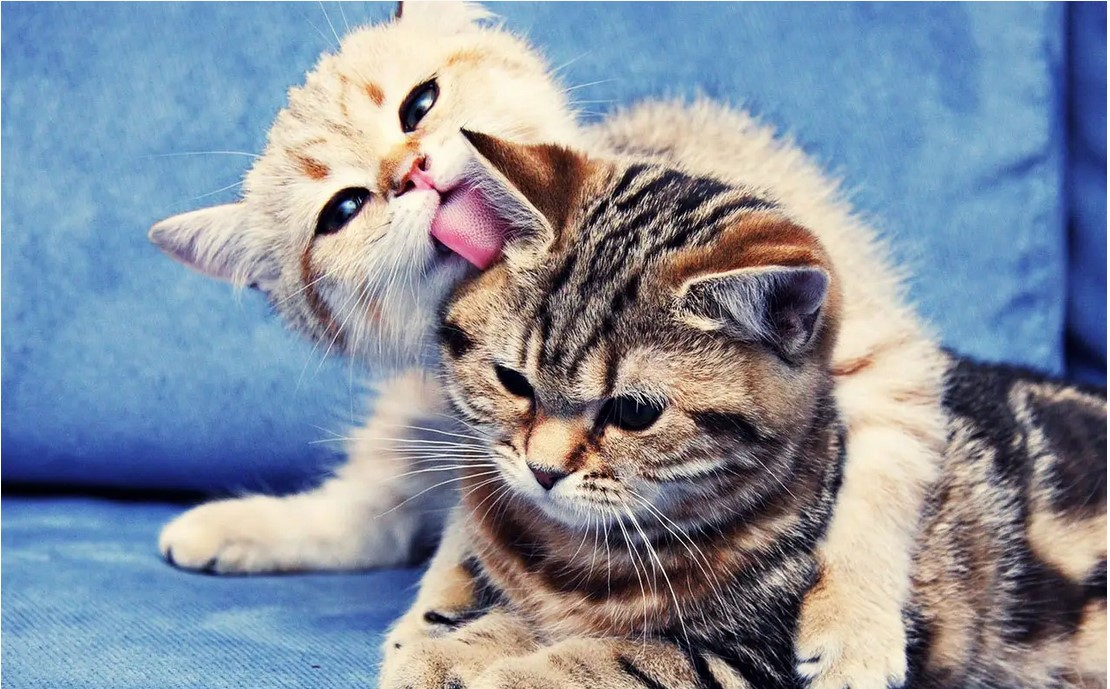cat: (147, 1, 945, 689), (378, 126, 1110, 689)
